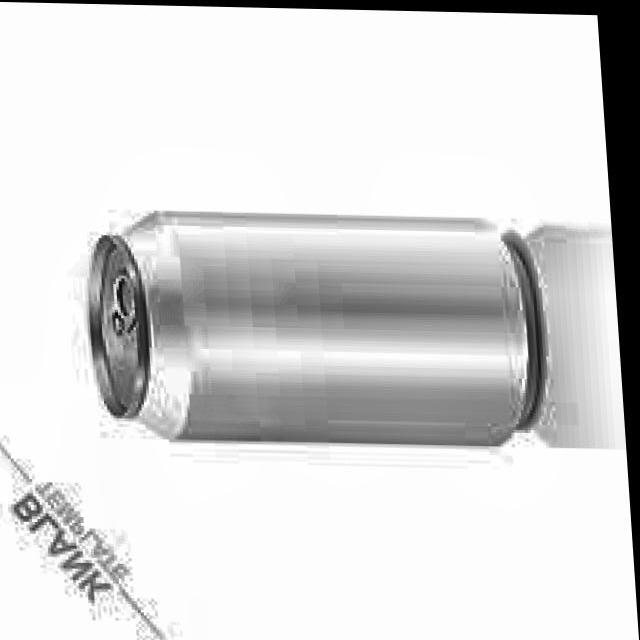Aluminum Can: (72, 192, 578, 456)
